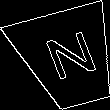N_S: (36, 29, 100, 89)
